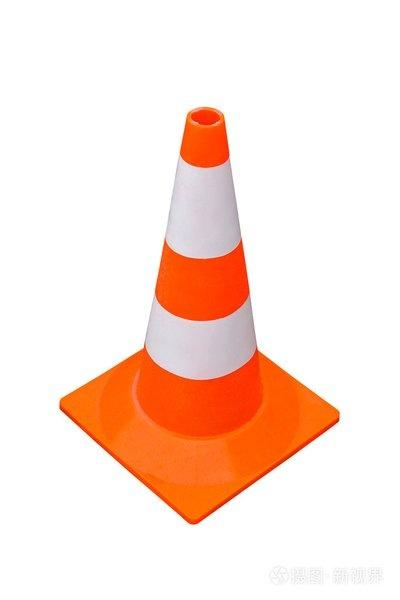cone_barrel: (105, 104, 285, 440)
